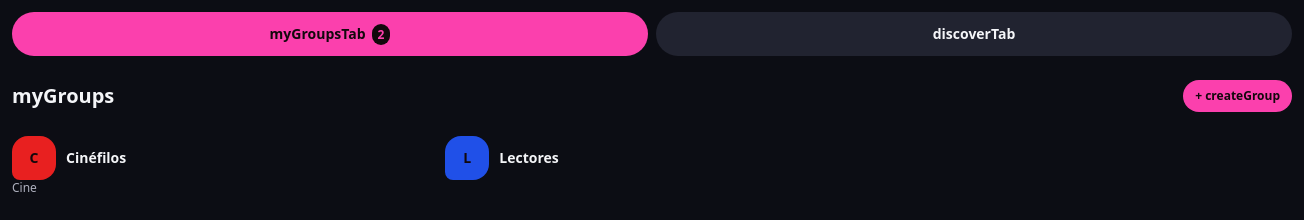
Test: GroupsClient › switches to the discover tab
Click the button "discoverTab" at x=974, y=34, box 656,12 -> 1292,56
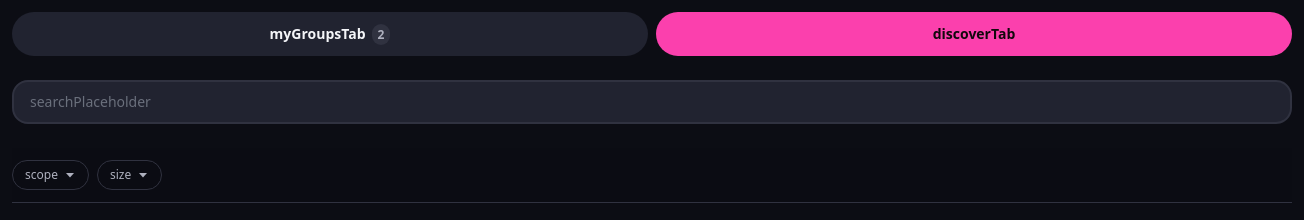
Result: the search field with placeholder "searchPlaceholder" is shown at 12,80 -> 1292,124
